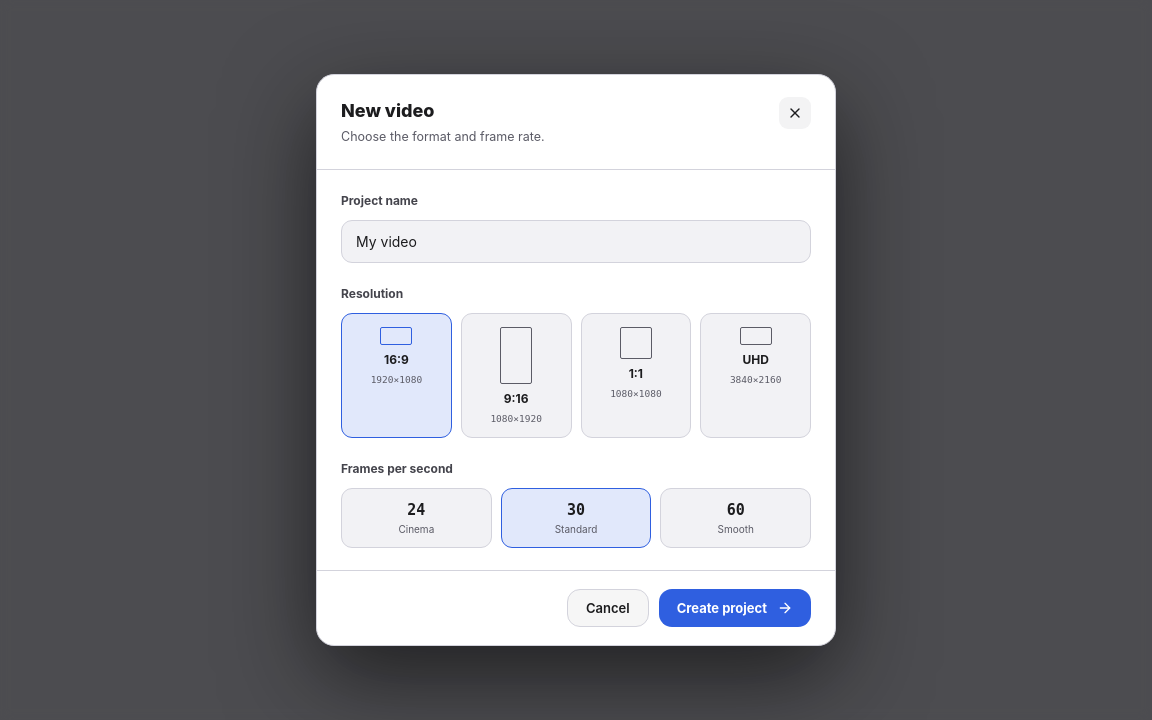
Test: NewProjectModal › shows the reason when creation fails
Click the button "Create project" at {"x": 735, "y": 608}, box top-left (659, 589), bottom-right (811, 627)
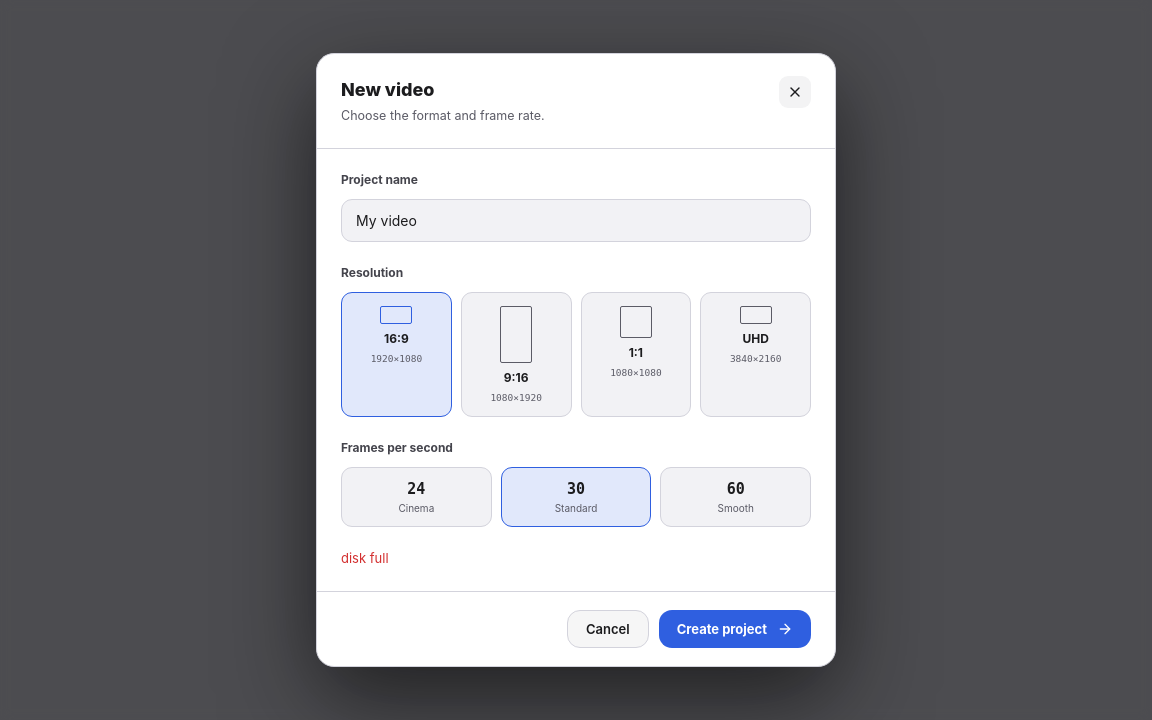
Now the text "disk full" is shown, box top-left (341, 550), bottom-right (389, 566)
